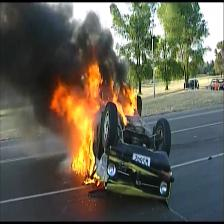fire: (41, 49, 148, 194)
smoke: (1, 3, 138, 83)
